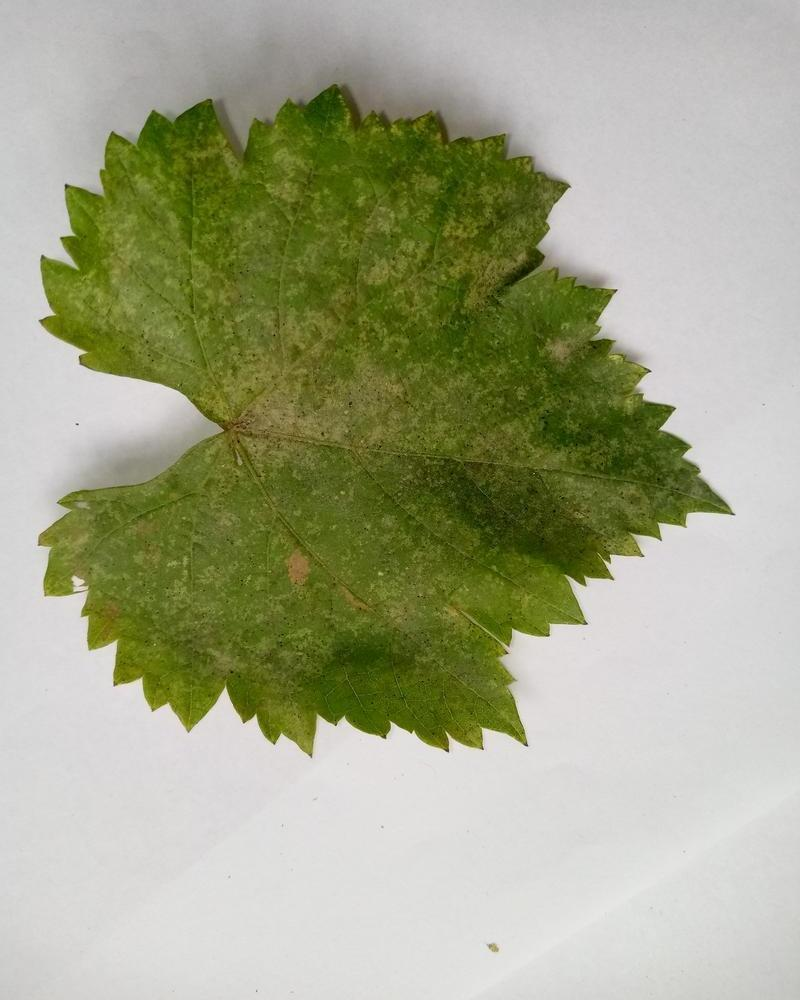Powdery-Mildew: (221, 309, 436, 487), (63, 472, 250, 674), (452, 412, 670, 564), (243, 151, 446, 291), (75, 175, 196, 348), (472, 157, 535, 220), (453, 220, 516, 283), (533, 332, 596, 395), (269, 531, 332, 594), (336, 586, 399, 649)
